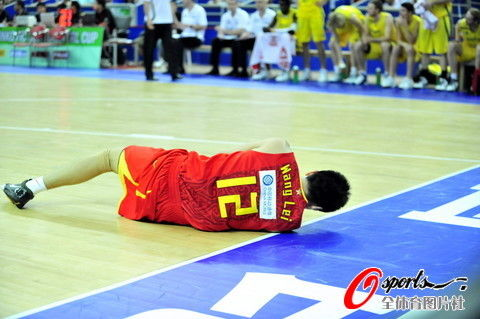10+: (1, 1, 479, 102)
down: (2, 141, 355, 234)
